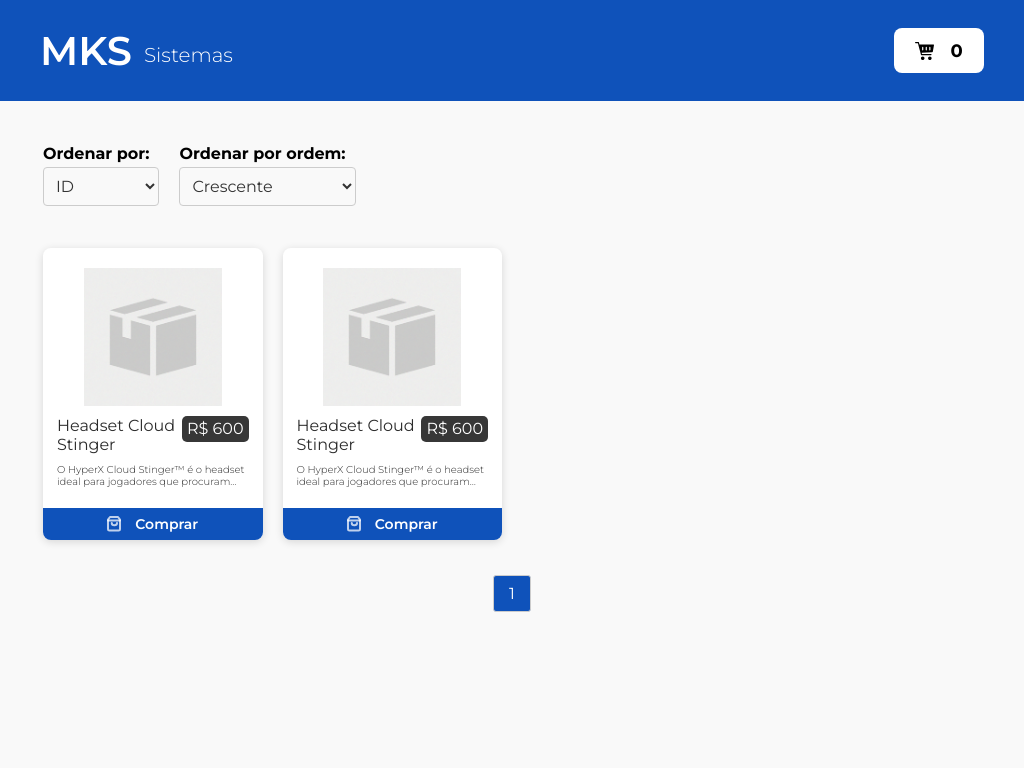
Test: should be able to add product to cart
Expected: the element with test id "product-0" is shown, [43,248,262,540]
Click the 1st button "Comprar": click(153, 524) [43,508,262,540]
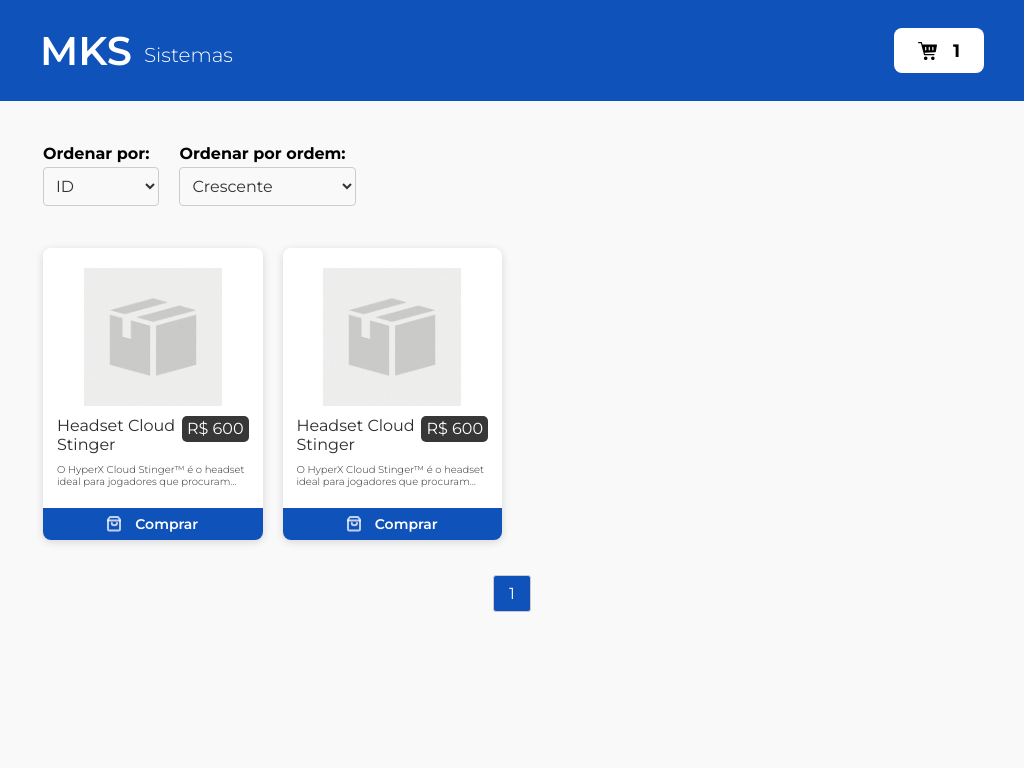
Expected: the text with test id "cart-product-quantity" reads "1", [953,40,960,62]
